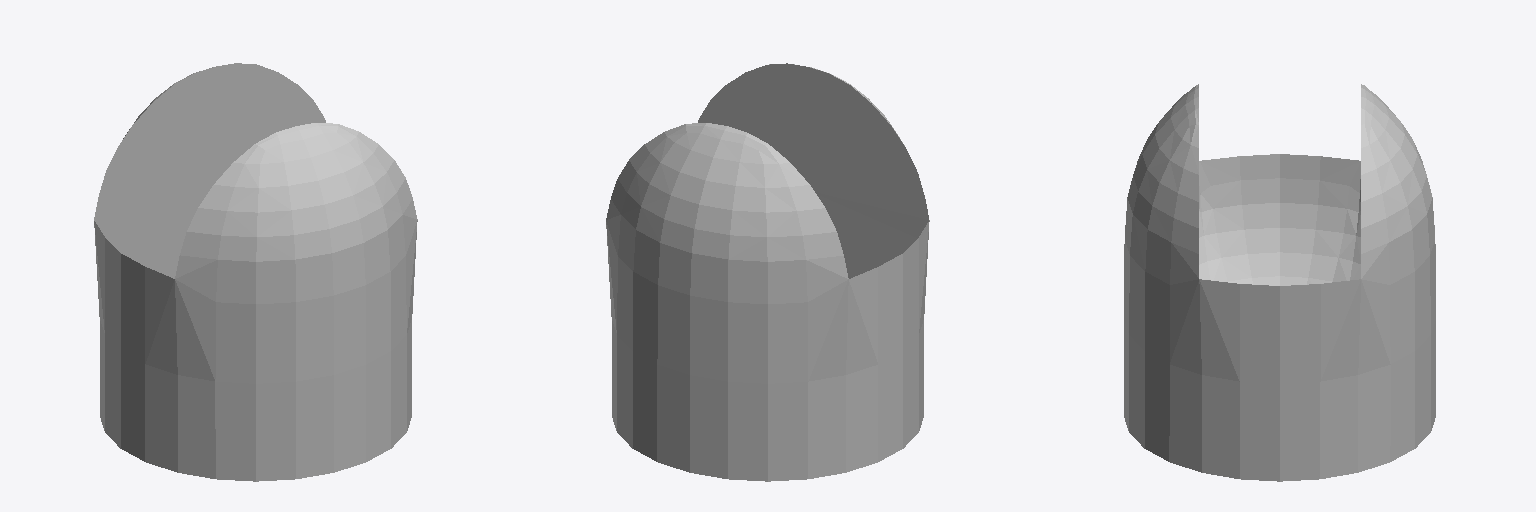
Rendered from Tr-LeverBaseZ.obj.
3 views of the same model, side by side, from view 1: azimuth 30°, elevation 25°; view 2: azimuth 150°, elevation 25°; view 3: azimuth 270°, elevation 25° (orthographic).
Visible parts, largest first — view 1: Tr-LeverBaseZ_BaseLevier; view 2: Tr-LeverBaseZ_BaseLevier; view 3: Tr-LeverBaseZ_BaseLevier.
Part boxes in pixels (x1,y1,x2,y2): Tr-LeverBaseZ_BaseLevier: (94, 63, 417, 481); Tr-LeverBaseZ_BaseLevier: (606, 63, 929, 481); Tr-LeverBaseZ_BaseLevier: (1124, 84, 1435, 481).
Bounding box in the file's own units: 0.0725 × 0.0816 × 0.0725.